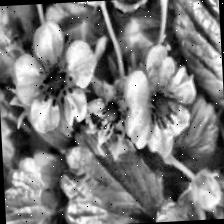Blossom Blight: (34, 54, 78, 110), (142, 80, 182, 132), (94, 93, 128, 138)
